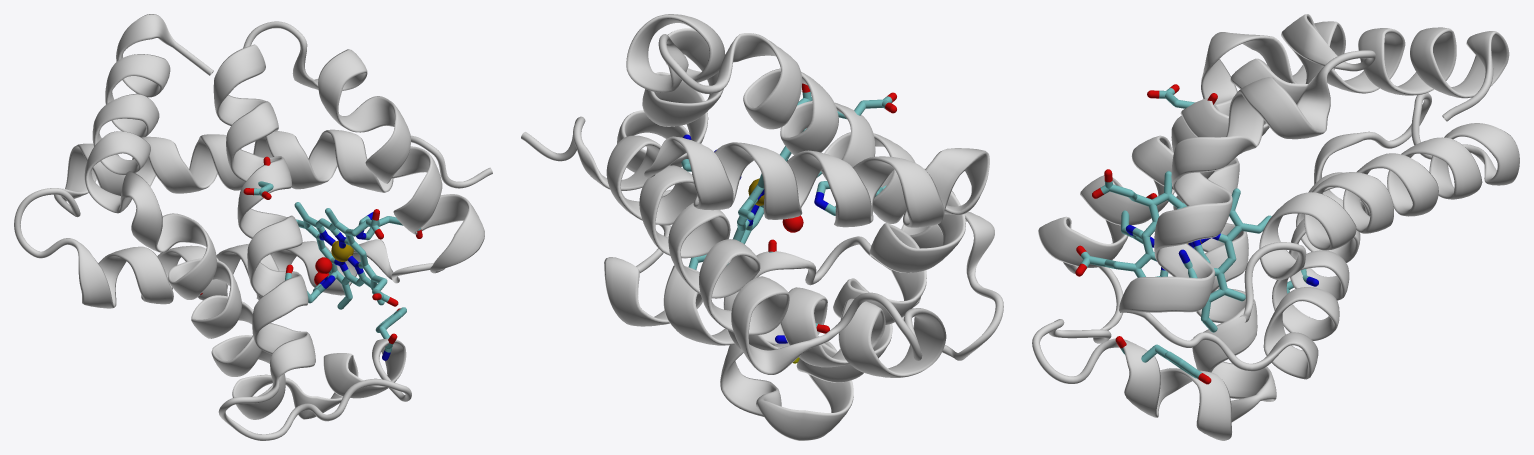
The model's file is frame25.gltf.
3 renders of one model, left to right at view 1: azimuth 30°, elevation 25°; view 2: azimuth 150°, elevation 25°; view 3: azimuth 270°, elevation 25°, orthographic. The views are drawn at different scales.
Visible parts, largest first — view 1: vmd_mol25_rep3, vmd_mol25_rep2, vmd_mol25_rep1; view 2: vmd_mol25_rep3, vmd_mol25_rep1, vmd_mol25_rep2; view 3: vmd_mol25_rep3, vmd_mol25_rep2, vmd_mol25_rep1.
Boxes of the visible parts, x1,y1,x2,y2 form: vmd_mol25_rep3: (14, 14, 492, 440); vmd_mol25_rep2: (294, 202, 398, 309); vmd_mol25_rep1: (200, 156, 422, 360); vmd_mol25_rep3: (521, 14, 1003, 440); vmd_mol25_rep1: (681, 92, 896, 363); vmd_mol25_rep2: (733, 83, 822, 244); vmd_mol25_rep3: (1032, 14, 1519, 440); vmd_mol25_rep2: (1075, 169, 1271, 332); vmd_mol25_rep1: (1115, 84, 1318, 384).
Size of the model in its own units: 1.41 by 1.17 by 1.28.
